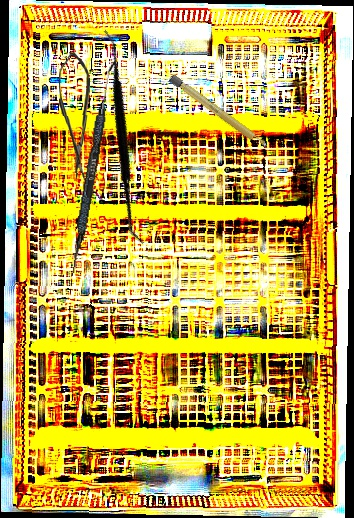Micro Scissor: (58, 51, 92, 180)
Scalpel Handle: (167, 73, 271, 152)
Spatula Surgical: (20, 27, 228, 247), (69, 60, 115, 278)
